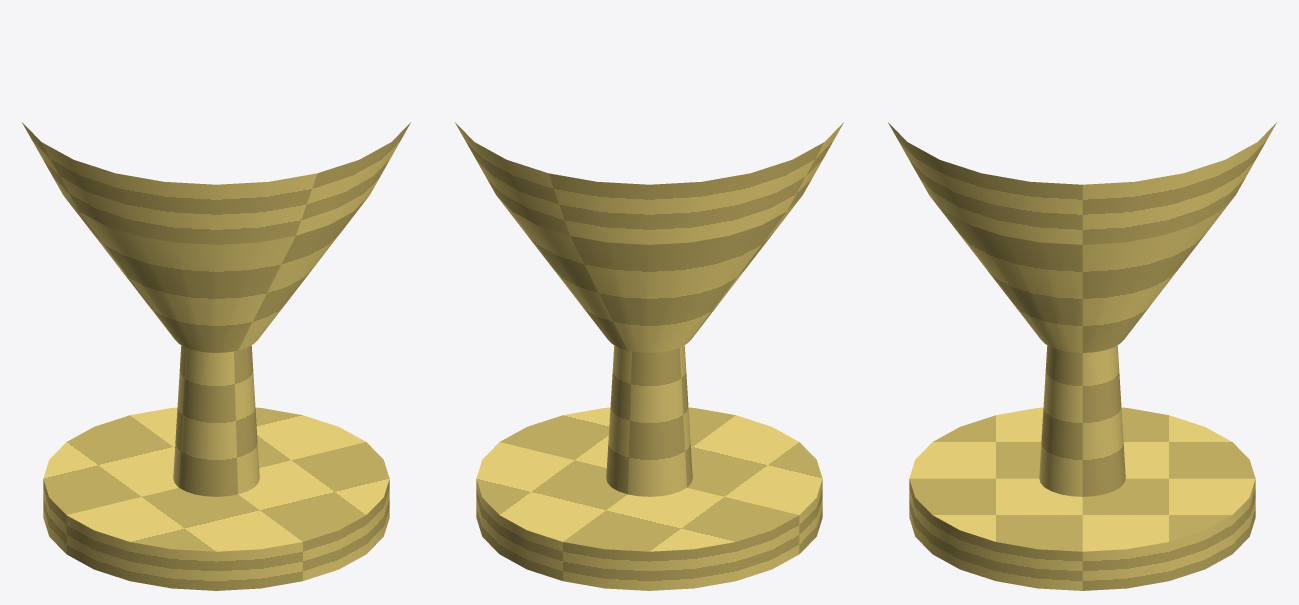
File: trophy.glb
3 views of the same model, side by side, from view 1: azimuth 30°, elevation 25°; view 2: azimuth 150°, elevation 25°; view 3: azimuth 270°, elevation 25° (orthographic).
Visible parts, largest first — view 1: trophy; view 2: trophy; view 3: trophy.
Part boxes in pixels (<box>): trophy: <box>22,122,410,590</box>; trophy: <box>455,122,843,590</box>; trophy: <box>888,122,1276,590</box>.
Size of the model in its own units: 1.4 by 1.6 by 1.4.
1 material, 1 textured.
